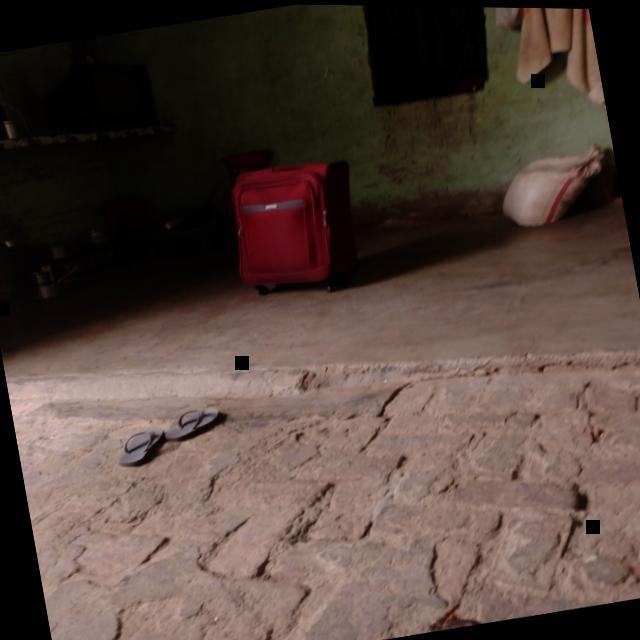luggage: (220, 146, 374, 301)
